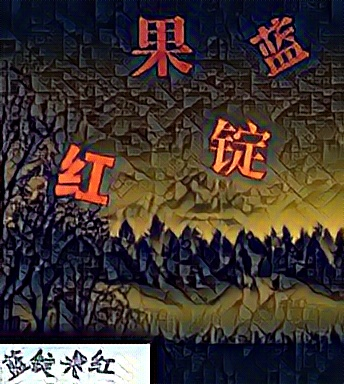B6A7: (207, 114, 272, 180)
B9FB: (130, 15, 195, 81)
BAEC: (51, 141, 116, 207)
C0B6: (247, 13, 312, 79)
